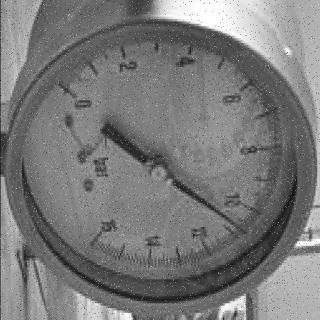gauge: (0, 0, 320, 320), (46, 77, 96, 123), (75, 217, 123, 258), (148, 163, 168, 184), (234, 223, 252, 239)
